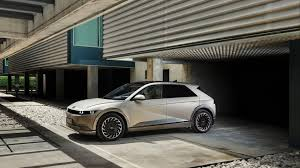Honda Ioniq: (58, 76, 222, 150)
